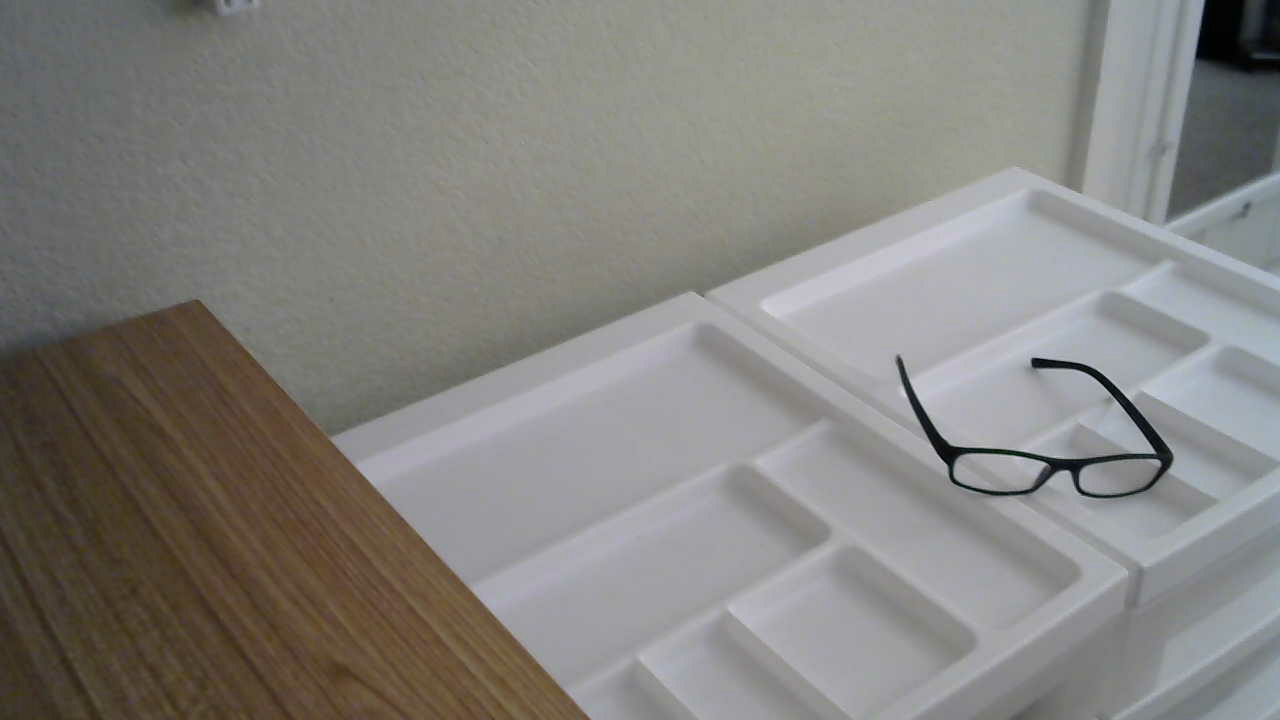Glasses: (878, 327, 1186, 522)
